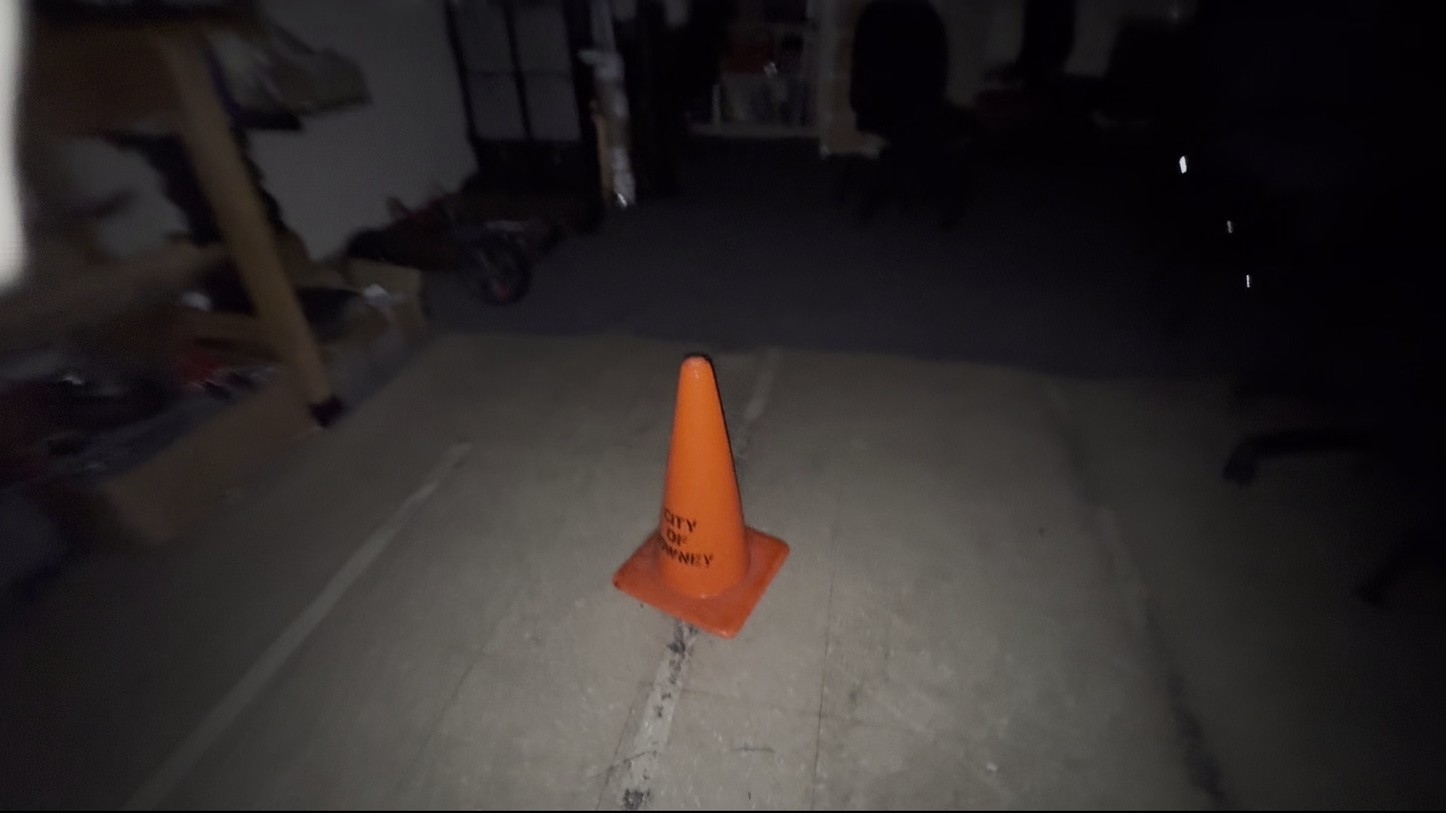traffic_cone: (611, 352, 790, 639)
